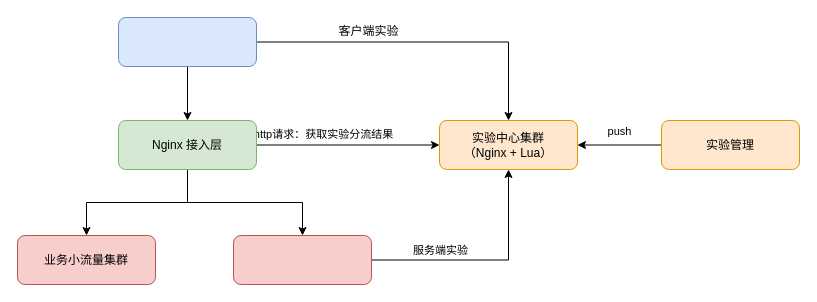
Image size: 817x302. Some labels were removed from this diagram. Each missing label, with the centre of its shape:
"业务全量集群" goes at point (302, 259).
"客户端" goes at point (187, 41).
